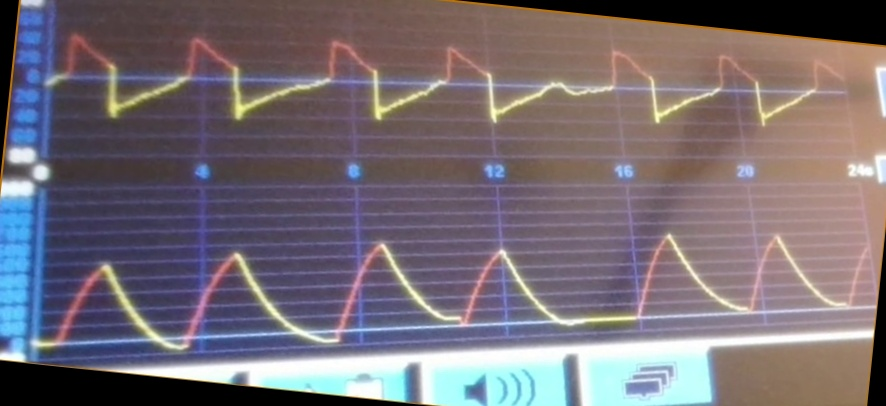Ineffective_effort Flow: (55, 28, 842, 138)
Ineffective_effort Volume: (42, 232, 868, 350)
